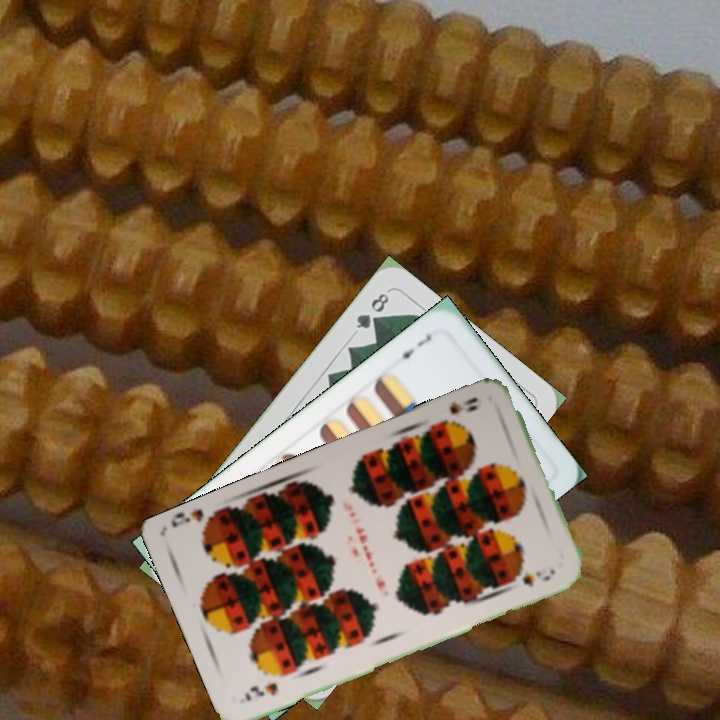E7: (391, 330, 434, 364)
G8: (352, 287, 392, 332)
S9: (436, 393, 481, 430), (240, 678, 281, 704)
